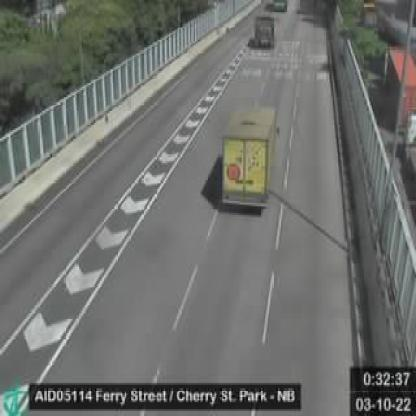Car: (254, 16, 276, 46)
Truck: (221, 104, 276, 206)
